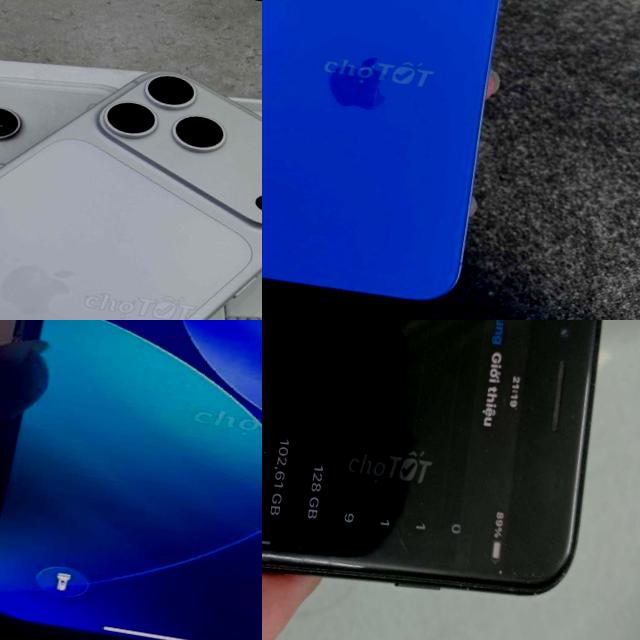scratch: (262, 528, 370, 586), (491, 562, 554, 592)
